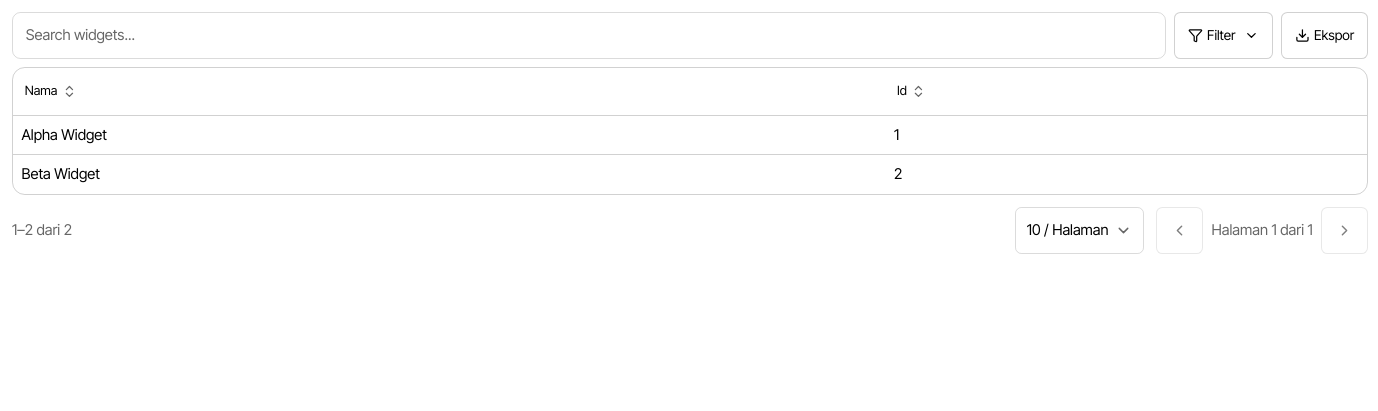
Test: ServerEntityTable remainder › renders a status filter when statusOptions are provided
Expected: the text "Alpha Widget" is shown, [13, 116, 885, 155]
Click the button "Filter" at (1223, 35), box [1174, 12, 1273, 59]
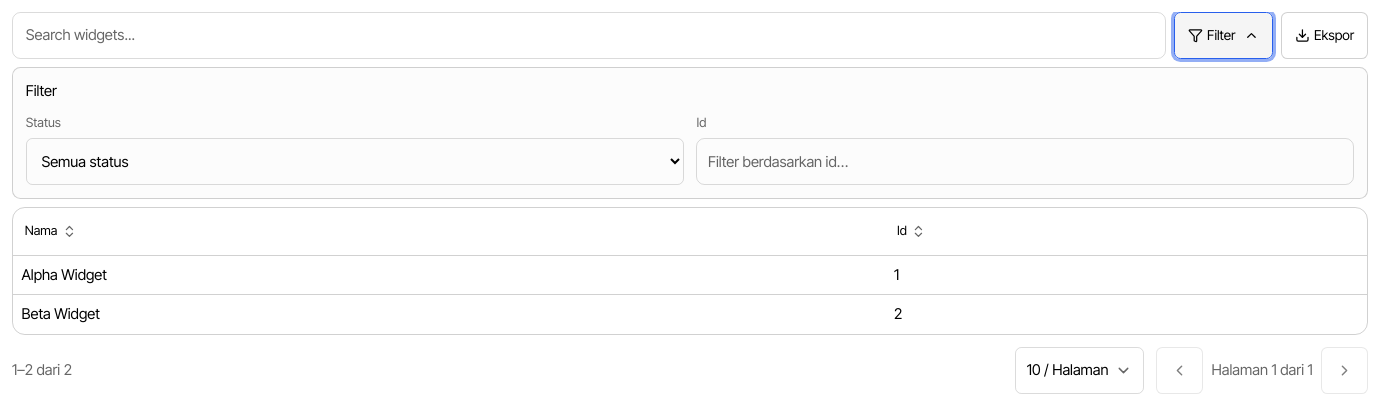
Now the search field with placeholder "Filter berdasarkan id…" is shown, box [696, 138, 1354, 185]
